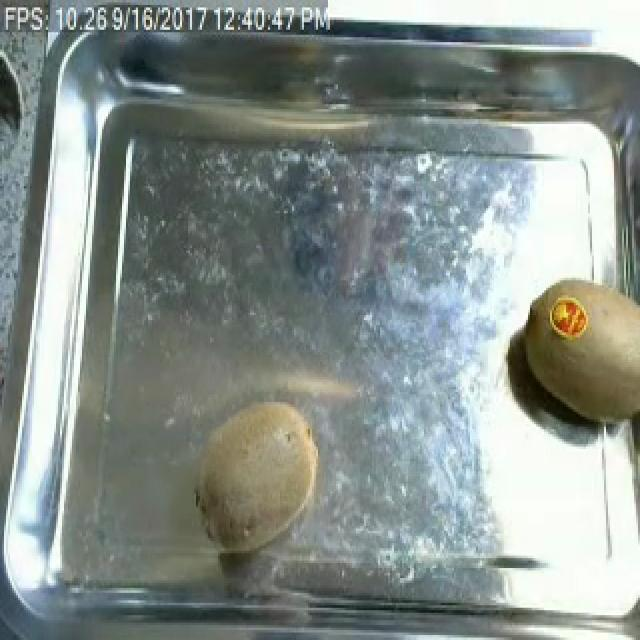Fruit: (184, 390, 328, 563), (514, 270, 640, 434)
